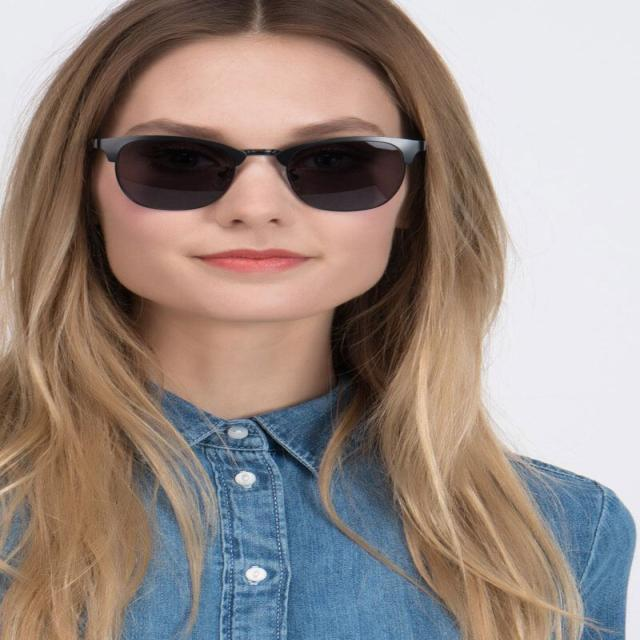2_gafas: (88, 133, 427, 213)
